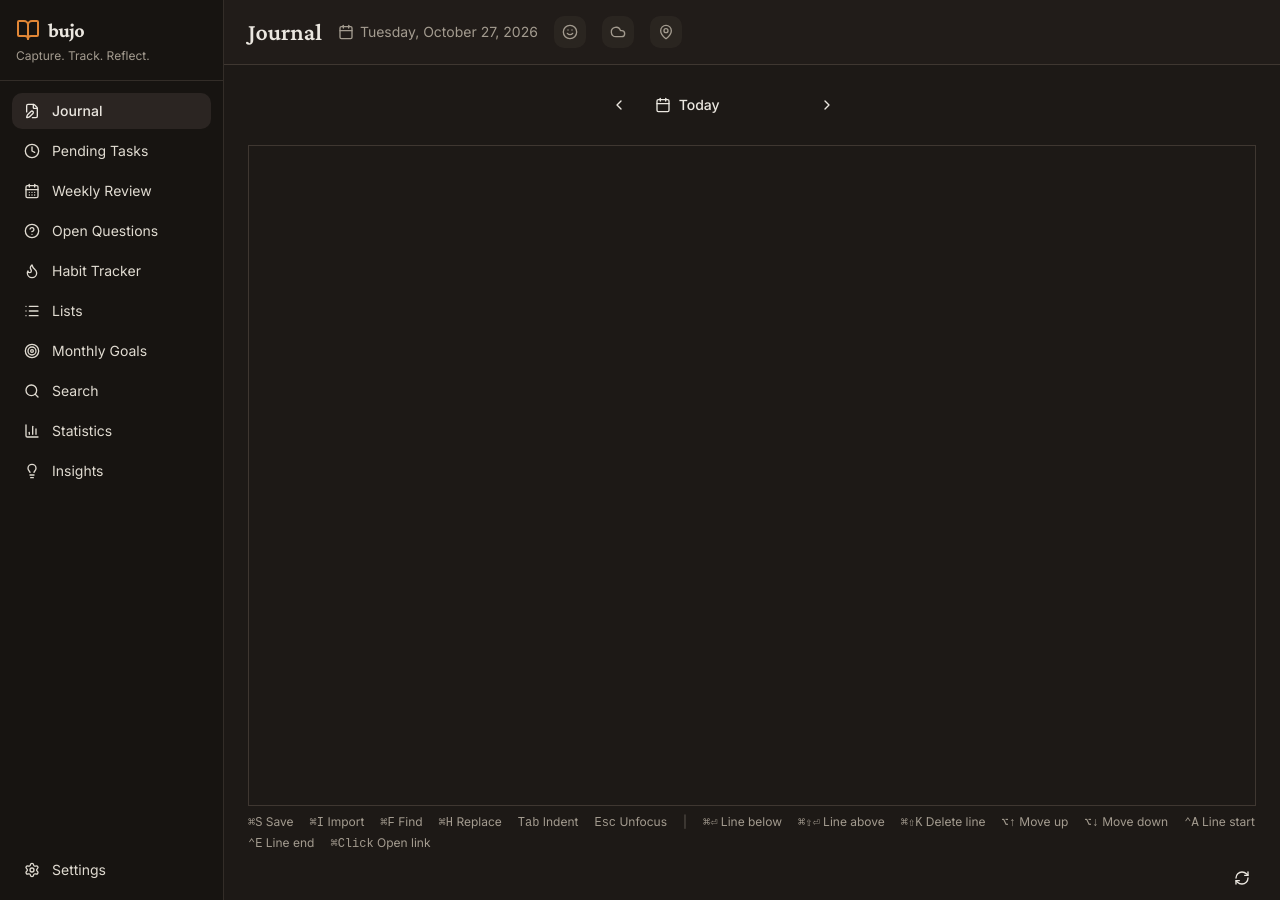
Test: App - Search Navigation › back button returns to search view after double-click navigation
Note: Navigate to search, double-click result
Click the button "Search": [112, 391] box left=12, top=373, right=211, bottom=409
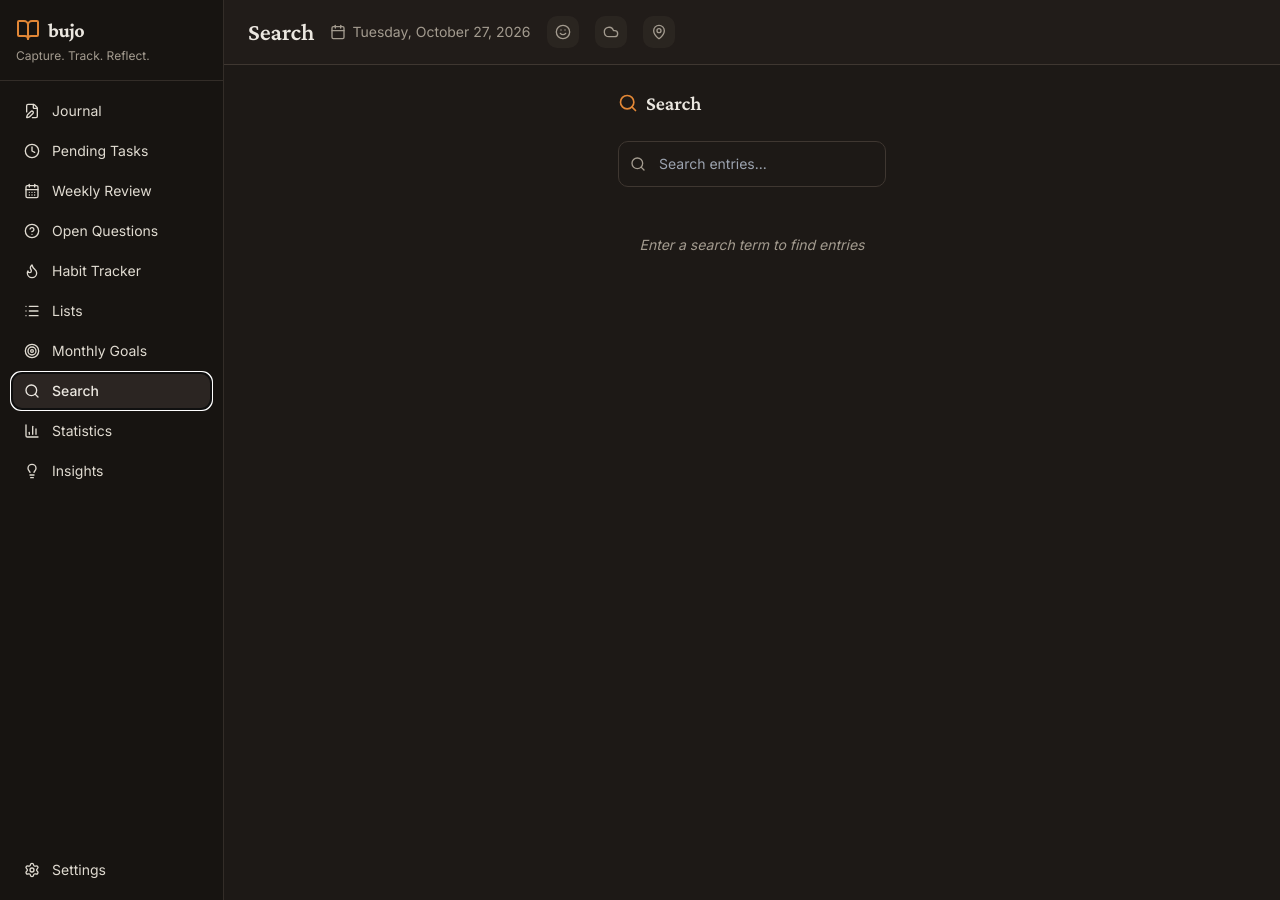
Expected: the field with placeholder "Search entries..." is shown
In the field with placeholder "Search entries...": [752, 164] box left=618, top=141, right=886, bottom=187, type "test"
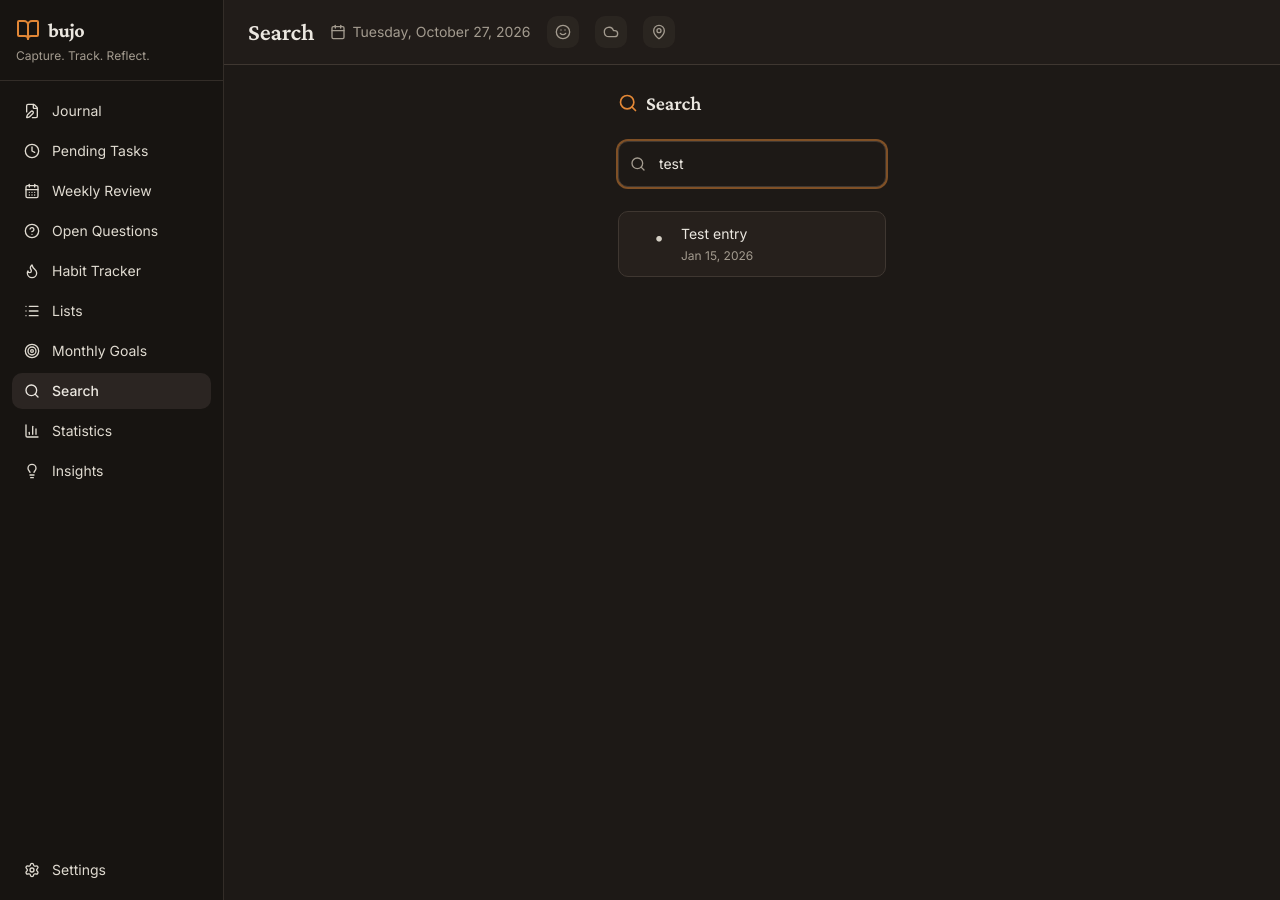
Expected: the text "Test entry" is shown, left=681, top=225, right=747, bottom=242
Double-click the text "Test entry": [701, 244] box left=649, top=224, right=753, bottom=263
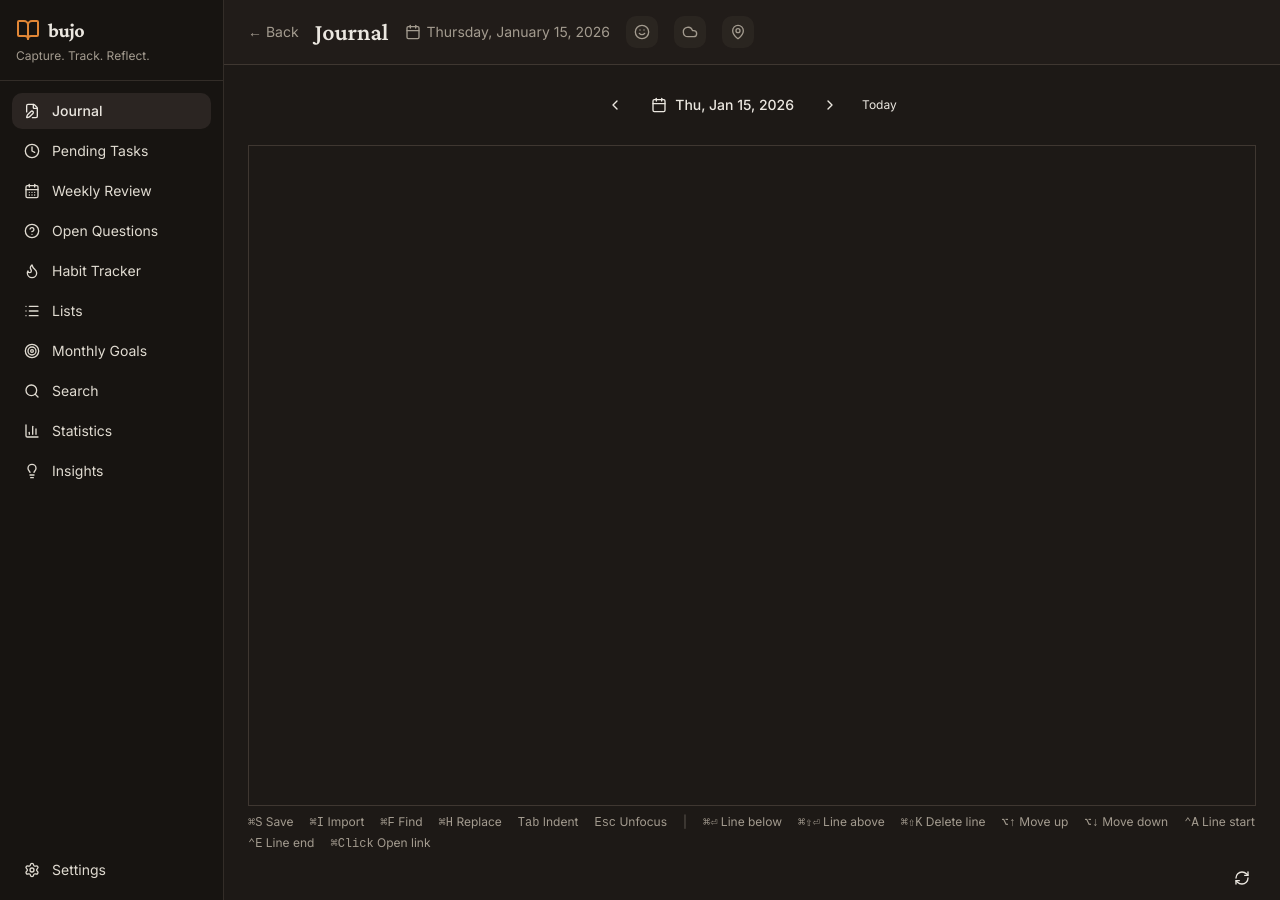
Expected: the field is shown, left=265, top=146, right=1255, bottom=805
Note: Click back button
Click the button with aria-label "go back": [273, 32] box left=248, top=22, right=299, bottom=42
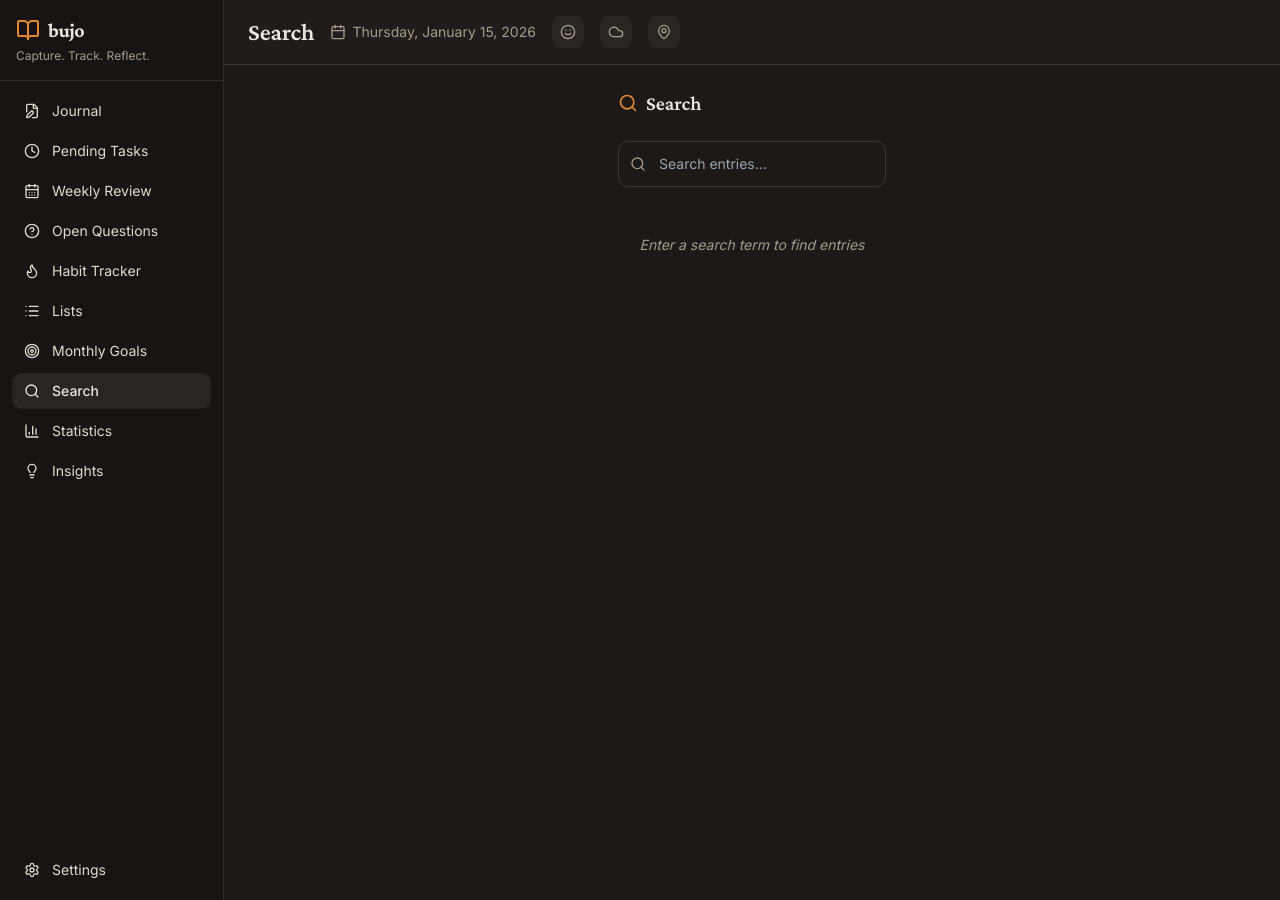
Expected: the field with placeholder "Search entries..." is shown, left=618, top=141, right=886, bottom=187
